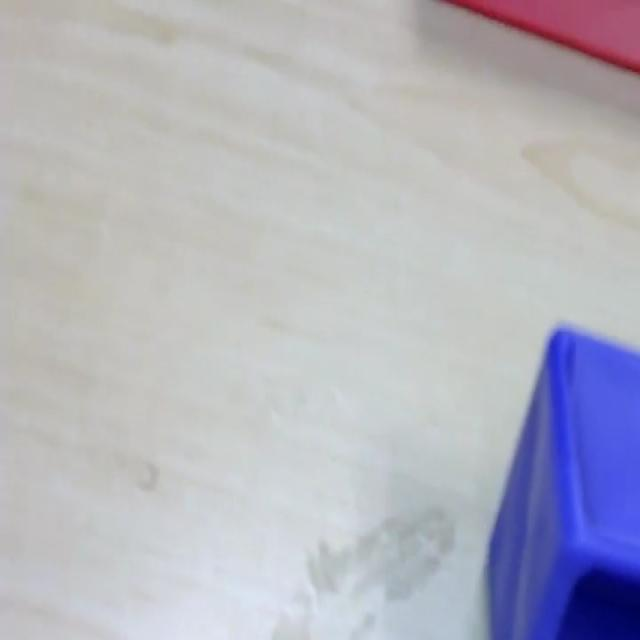blue_block: (484, 320, 638, 637)
